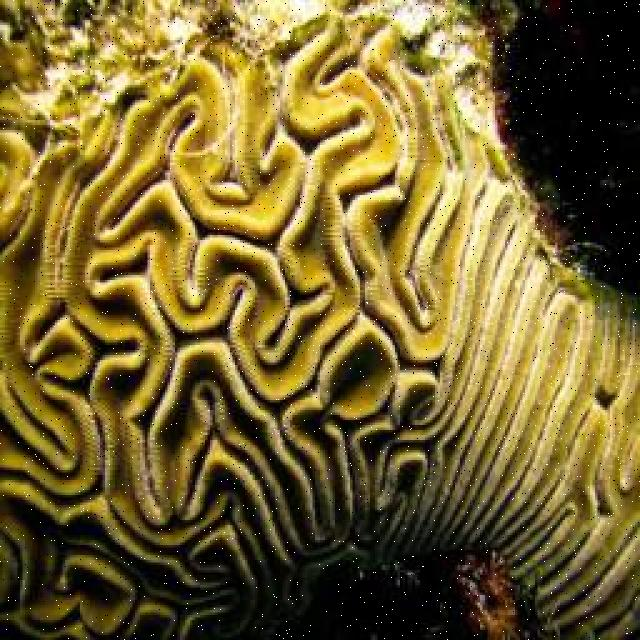reefs: (1, 0, 638, 638)
